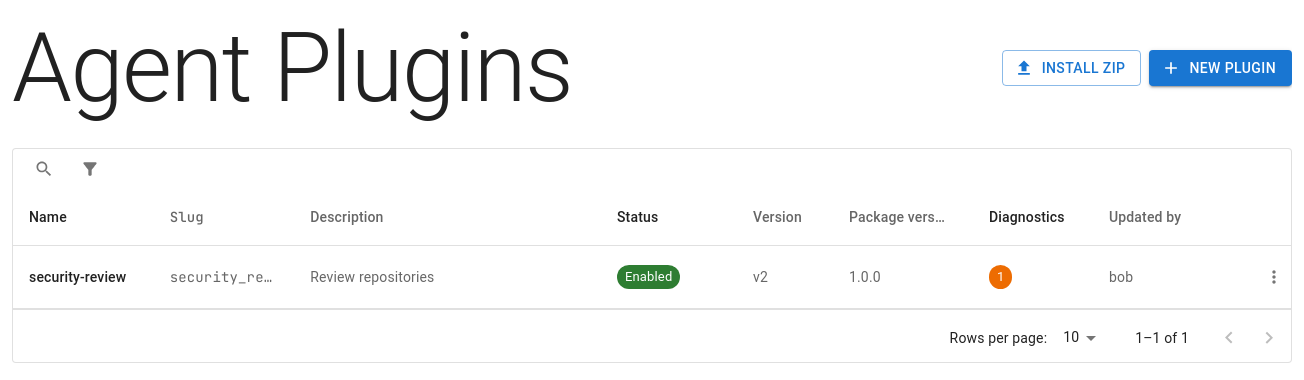
it: Plugins › names the diagnostics on hover instead of only counting them
Step 1. Hover over the text "1" → {"x": 1001, "y": 277}, box [997,269,1004,284]
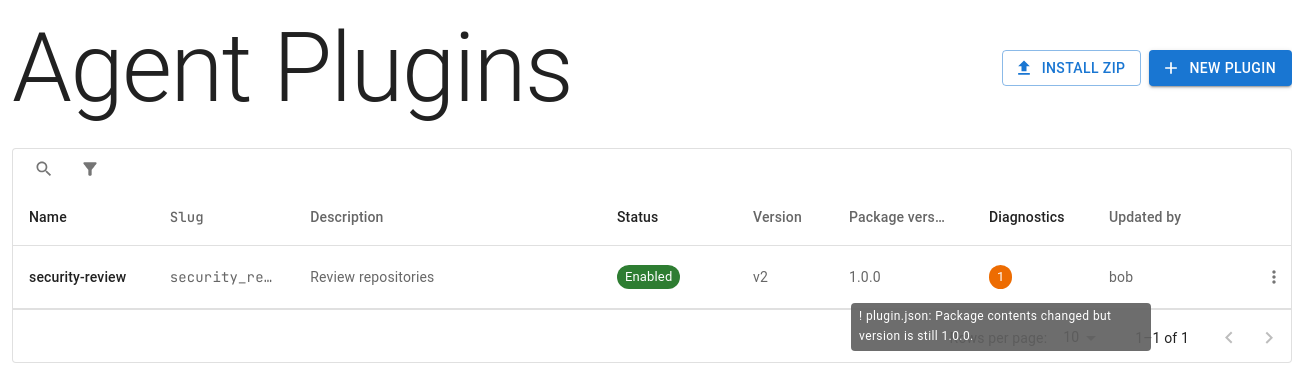
Expected: the text "Package contents changed but version is still" is shown, [859,309,1111,343]
